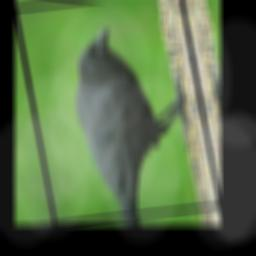Crow: (62, 20, 209, 220)
